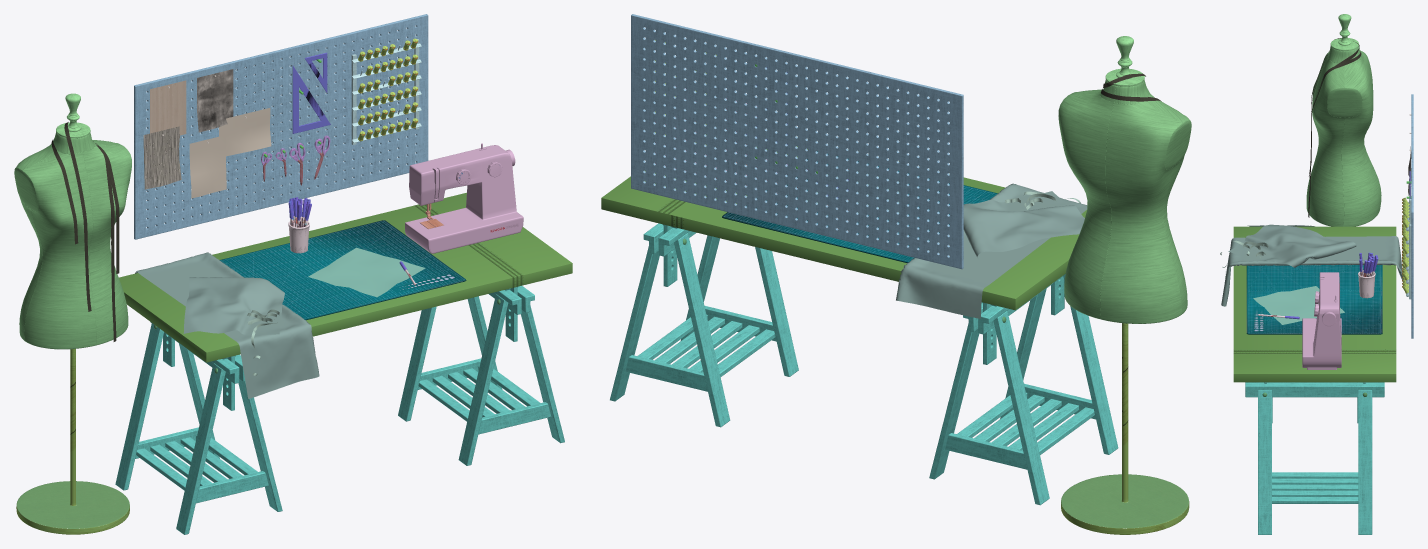
Rendered from tailorly-desk.glb.
3 renders of one model, left to right at view 1: azimuth 30°, elevation 25°; view 2: azimuth 150°, elevation 25°; view 3: azimuth 270°, elevation 25°, orthographic. The views are drawn at different scales.
Parts seen in each view (by area): view 1: mint1650004, mint1650006, mint1650002, mint1650033, mint1650001, mint1650005, mint1650019, mint1650008, mint1650003, mint1650015, mint1650016, mint1650014 (+5 smaller); view 2: mint1650006, mint1650004, mint1650002, mint1650033, mint1650001; view 3: mint1650004, mint1650002, mint1650001, mint1650033, mint1650005, mint1650019, mint1650012, mint1650006, mint1650008, mint1650003, mint1650007.
Part boxes in pixels (x1,y1,x2,y2): mint1650004: [115, 192, 572, 534]; mint1650006: [134, 14, 428, 239]; mint1650002: [14, 93, 131, 534]; mint1650033: [135, 252, 319, 398]; mint1650001: [219, 220, 466, 320]; mint1650005: [405, 143, 523, 253]; mint1650019: [308, 247, 425, 297]; mint1650008: [358, 38, 418, 141]; mint1650003: [51, 122, 119, 341]; mint1650015: [143, 126, 181, 189]; mint1650016: [189, 135, 226, 198]; mint1650014: [197, 69, 233, 132]; mint1650006: [631, 14, 963, 269]; mint1650004: [601, 134, 1118, 505]; mint1650002: [1058, 36, 1191, 534]; mint1650033: [896, 183, 1087, 318]; mint1650001: [722, 151, 997, 262]; mint1650004: [1233, 226, 1396, 534]; mint1650002: [1306, 14, 1381, 226]; mint1650001: [1246, 264, 1382, 334]; mint1650033: [1221, 224, 1402, 306]; mint1650005: [1302, 272, 1341, 369]; mint1650019: [1253, 286, 1344, 324]; mint1650012: [1258, 252, 1378, 319]; mint1650006: [1411, 94, 1413, 338]; mint1650008: [1402, 197, 1409, 293]; mint1650003: [1308, 38, 1361, 217]; mint1650007: [1404, 199, 1411, 299].
Size of the model in its own units: 2.01 by 1.63 by 0.8322.
21 materials, 16 textured.
